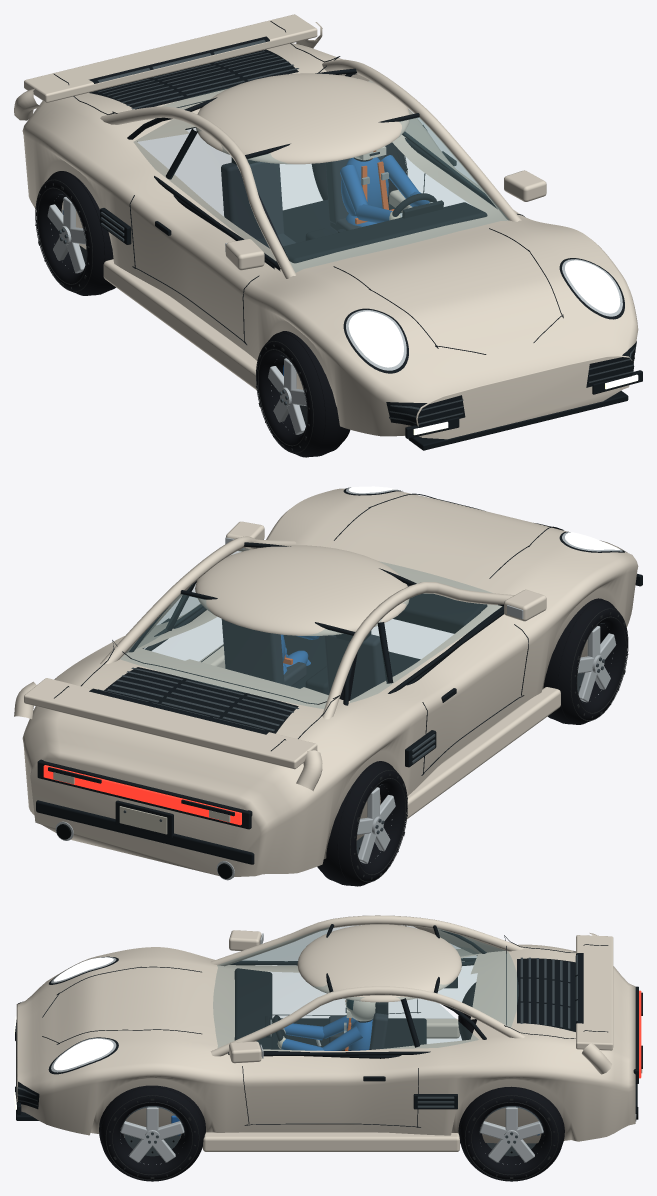
File: stuttgart_959s.glb
The picture shows the model from 3 angles, top to bottom: view 1: azimuth 30°, elevation 25°; view 2: azimuth 150°, elevation 25°; view 3: azimuth 270°, elevation 25°; orthographic projection. The views are drawn at different scales.
Visible parts, largest first — view 1: Lacquered body, Glass, Carbon and trim (×2), Tire rubber (×3), Cabin fabric, Machined aluminum (×3), Headlamp lenses, Driver_helmet_and_harness, Dark machined metal, Raised sidewall rubber (×2); view 2: Lacquered body, Glass, Carbon and trim (×2), Tire rubber (×2), Cabin fabric, Machined aluminum (×2), Dark machined metal, Brake lenses, Raised sidewall rubber (×2), Blank registration plate, Headlamp lenses; view 3: Lacquered body, Glass, Carbon and trim (×2), Tire rubber (×3), Machined aluminum (×3), Driver_helmet_and_harness, Dark machined metal (×2), Headlamp lenses, Raised sidewall rubber (×2), Cabin fabric.
Part boxes in pixels (left/top/right/bottom): Lacquered body: left=14, top=14, right=638, bottom=439; Glass: left=134, top=78, right=509, bottom=272; Carbon and trim (×2): left=54, top=21, right=642, bottom=450; Tire rubber (×3): left=36, top=142, right=406, bottom=457; Cabin fabric: left=221, top=155, right=384, bottom=248; Machined aluminum (×3): left=47, top=196, right=622, bottom=434; Headlamp lenses: left=348, top=260, right=620, bottom=367; Driver_helmet_and_harness: left=340, top=146, right=429, bottom=226; Dark machined metal: left=97, top=39, right=636, bottom=424; Raised sidewall rubber (×2): left=35, top=179, right=313, bottom=453; Lacquered body: left=14, top=488, right=638, bottom=876; Glass: left=121, top=548, right=502, bottom=708; Carbon and trim (×2): left=36, top=487, right=642, bottom=864; Tire rubber (×2): left=317, top=598, right=627, bottom=886; Cabin fabric: left=221, top=619, right=385, bottom=700; Machined aluminum (×2): left=357, top=626, right=616, bottom=863; Dark machined metal: left=98, top=667, right=298, bottom=731; Brake lenses: left=43, top=765, right=241, bottom=825; Raised sidewall rubber (×2): left=350, top=608, right=628, bottom=882; Blank registration plate: left=53, top=772, right=230, bottom=834; Headlamp lenses: left=349, top=486, right=619, bottom=549; Lacquered body: left=16, top=915, right=635, bottom=1151; Glass: left=213, top=926, right=518, bottom=1051; Carbon and trim (×2): left=15, top=924, right=642, bottom=1127; Tire rubber (×3): left=99, top=982, right=564, bottom=1181; Machined aluminum (×3): left=51, top=957, right=543, bottom=1164; Driver_helmet_and_harness: left=277, top=999, right=375, bottom=1050; Dark machined metal (×2): left=17, top=954, right=577, bottom=1156; Headlamp lenses: left=53, top=957, right=113, bottom=1070; Raised sidewall rubber (×2): left=105, top=1095, right=558, bottom=1180; Cabin fabric: left=329, top=1013, right=388, bottom=1049.
Bounding box in the file's own units: 2.3 × 1.47 × 4.82.
